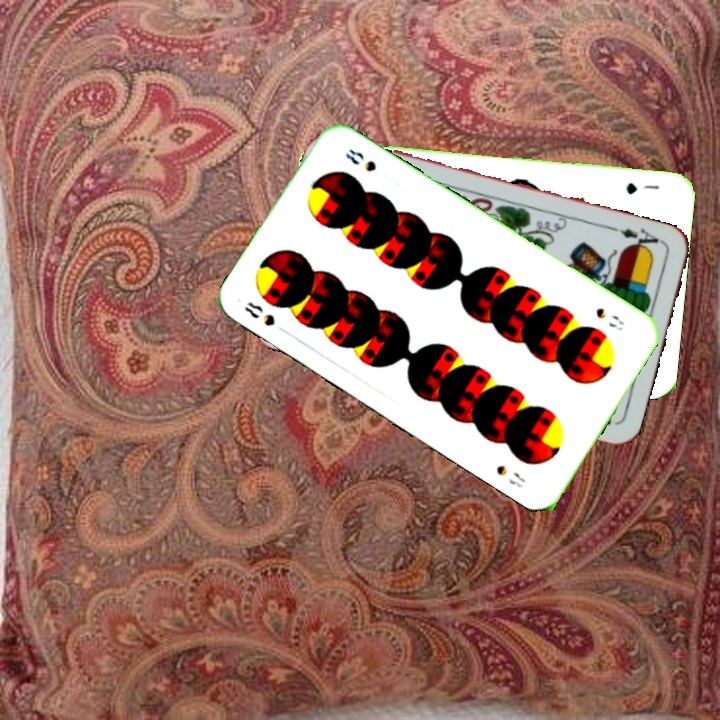EA: (608, 223, 666, 254)
GU: (622, 178, 662, 197)
S8: (240, 297, 278, 329), (591, 303, 626, 334)
